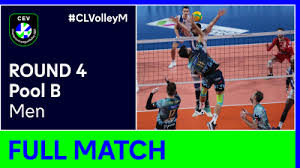ball: (191, 10, 203, 22)
